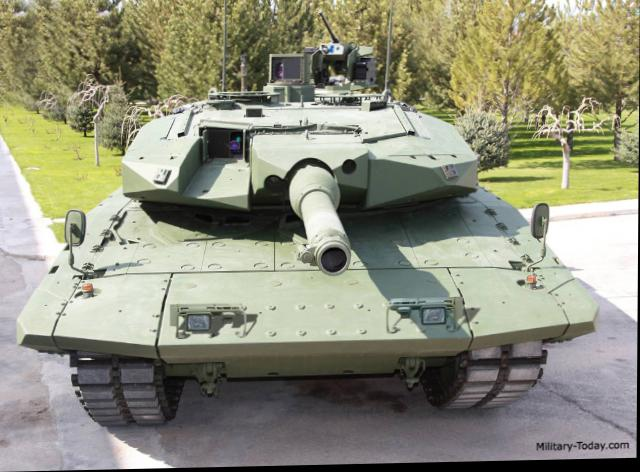tank: (15, 42, 606, 423)
